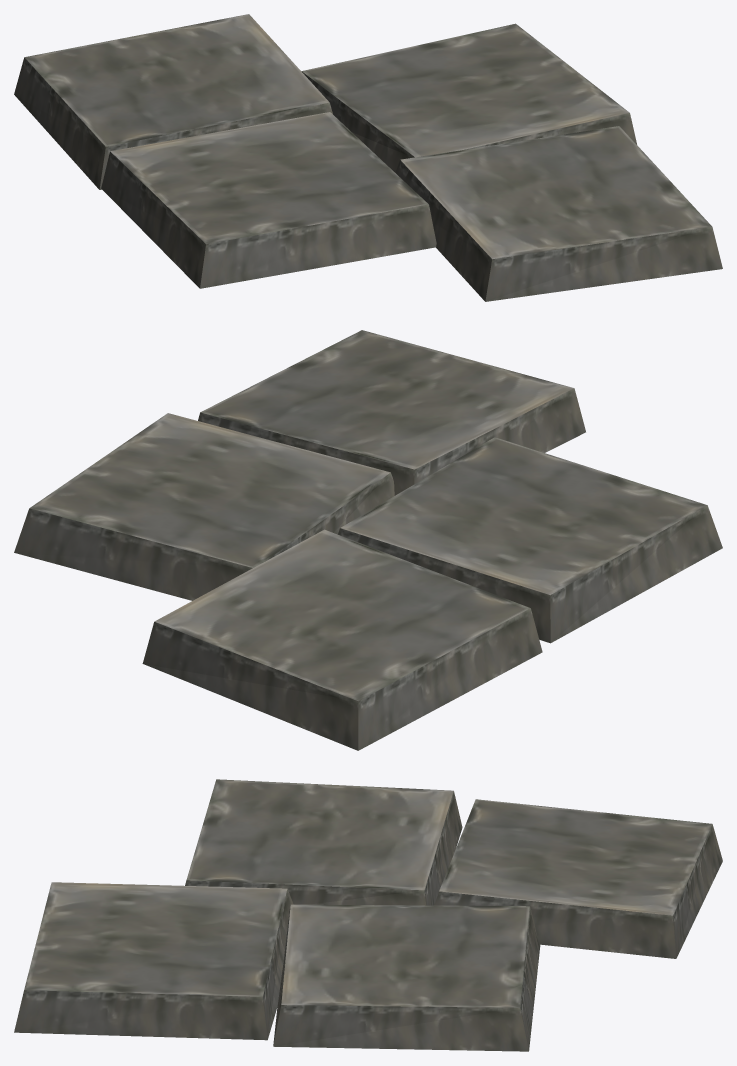
Rendered from Floor_blocks_002.obj.
The picture shows the model from 3 angles, top to bottom: view 1: azimuth 30°, elevation 25°; view 2: azimuth 150°, elevation 25°; view 3: azimuth 270°, elevation 25°; orthographic projection. The views are drawn at different scales.
Parts seen in each view (by area): view 1: Floor_blocks_002; view 2: Floor_blocks_002; view 3: Floor_blocks_002.
Part boxes in pixels (x1,y1,x2,y2): Floor_blocks_002: [14, 14, 722, 301]; Floor_blocks_002: [14, 330, 722, 750]; Floor_blocks_002: [14, 779, 722, 1051].
Size of the model in its own units: 14.3 by 1.53 by 18.3.
